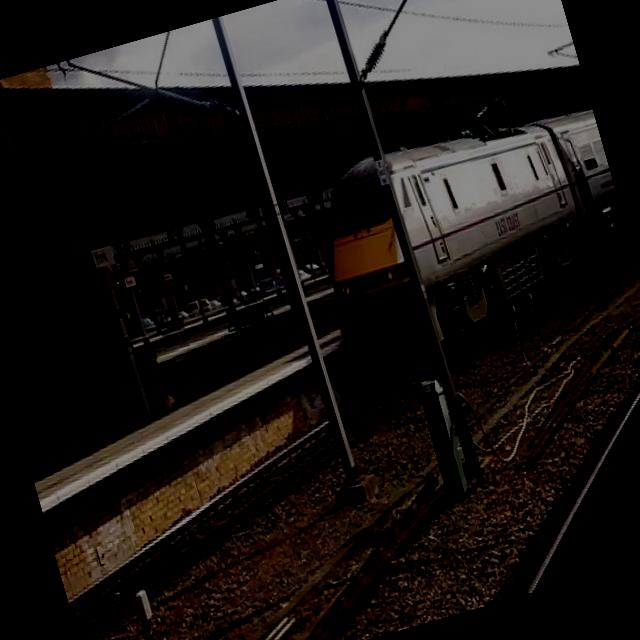Vehicle: (182, 296, 212, 318), (208, 296, 224, 312), (305, 260, 320, 272), (142, 316, 155, 326)
